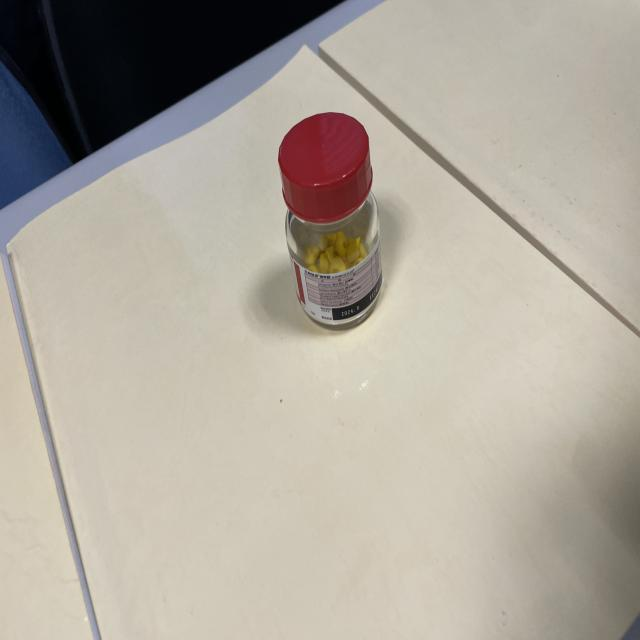Medicine-Jar: (260, 127, 390, 331)
